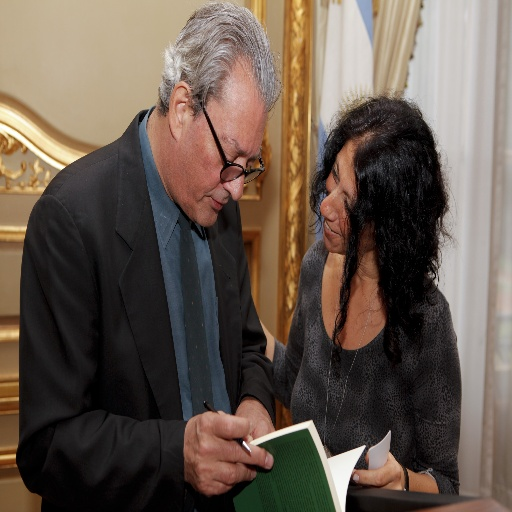hand: (177, 409, 276, 497), (349, 449, 406, 493), (231, 396, 275, 444)
